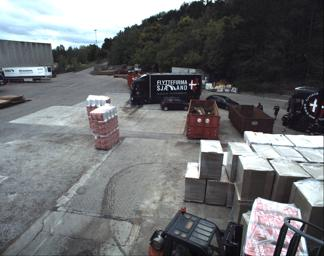rockwool_batts: (240, 199, 305, 255), (88, 103, 119, 148), (85, 92, 108, 112)
